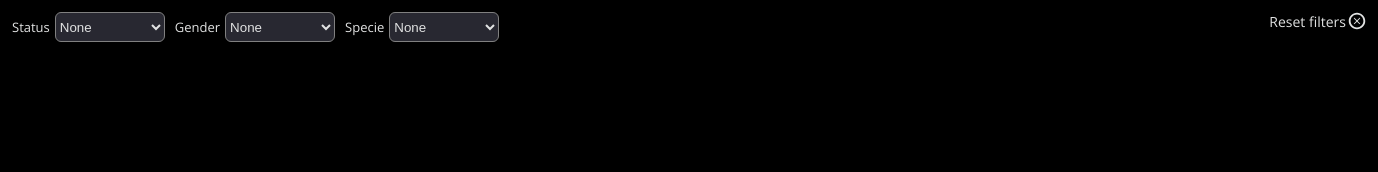
Test: Filters › should select properly the value in each dropdown
Check: the dropdown labelled "Gender" shows "None", box [225,12,335,42]
Check: the dropdown labelled "Specie" shows "None", box [389,12,499,42]
Click the dropdown labelled "Status": coordinates (110, 27) [55,12,165,42]
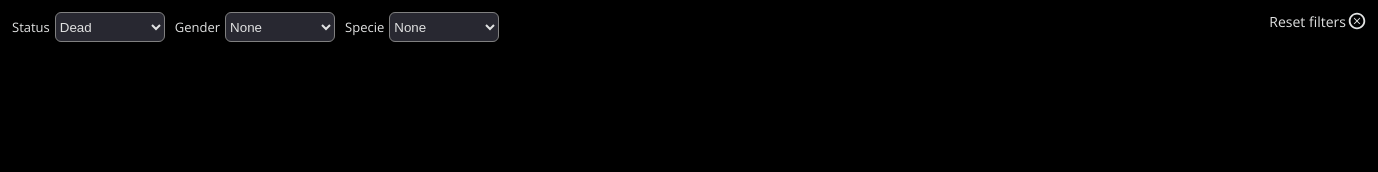
Click the dropdown labelled "Gender": coordinates (280, 27) [225,12,335,42]
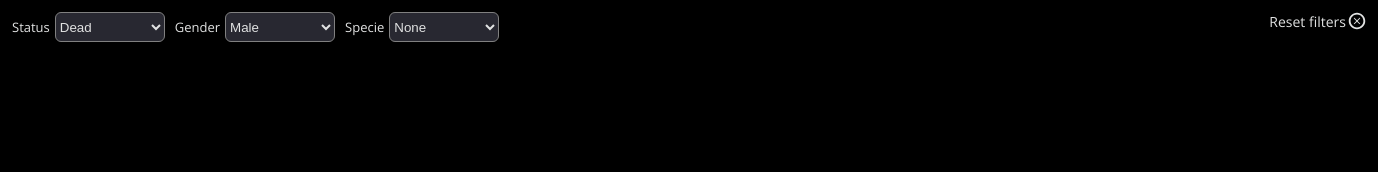
Click the dropdown labelled "Specie": coordinates (444, 27) [389,12,499,42]
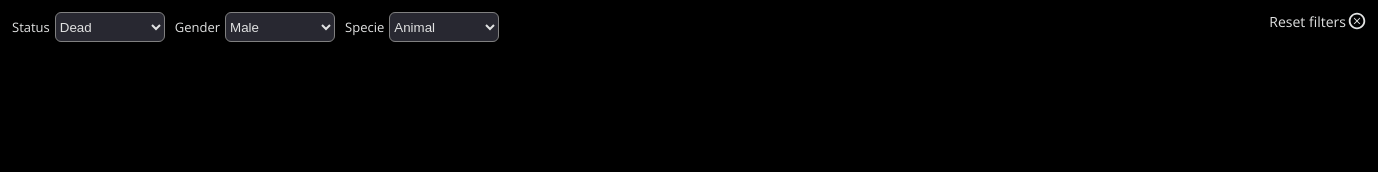
Check: the dropdown labelled "Status" shows "Dead", box [55,12,165,42]
Check: the dropdown labelled "Gender" shows "Male", box [225,12,335,42]
Check: the dropdown labelled "Specie" shows "Animal", box [389,12,499,42]
